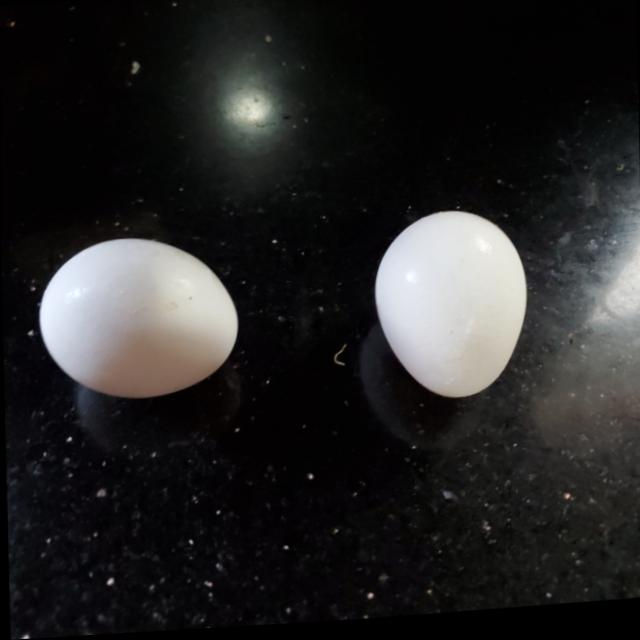egg: (35, 230, 240, 409), (369, 205, 529, 410)
